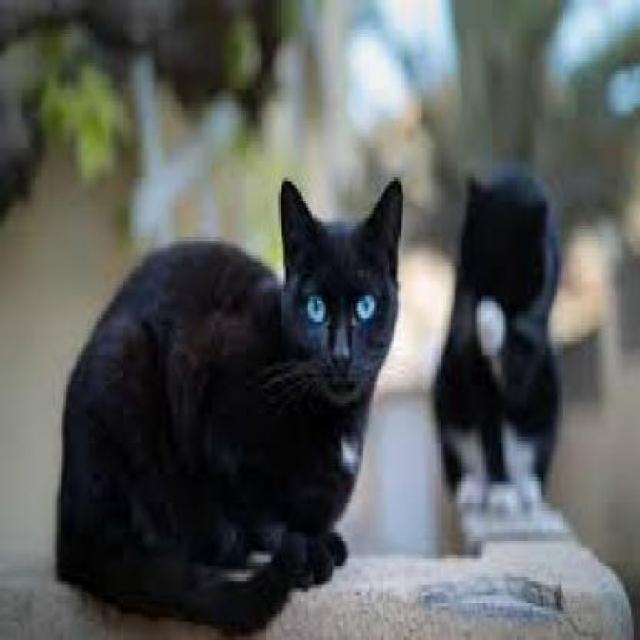animals: (53, 174, 407, 618)
